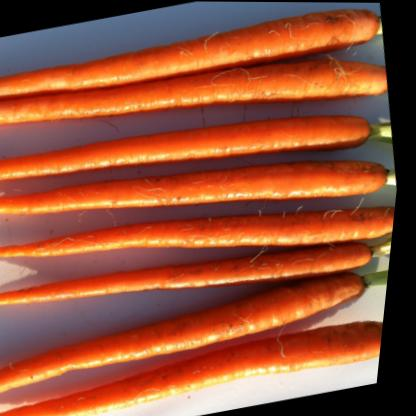--: (0, 0, 393, 162), (0, 257, 395, 403), (0, 134, 405, 272), (0, 225, 398, 338), (0, 309, 391, 416)
